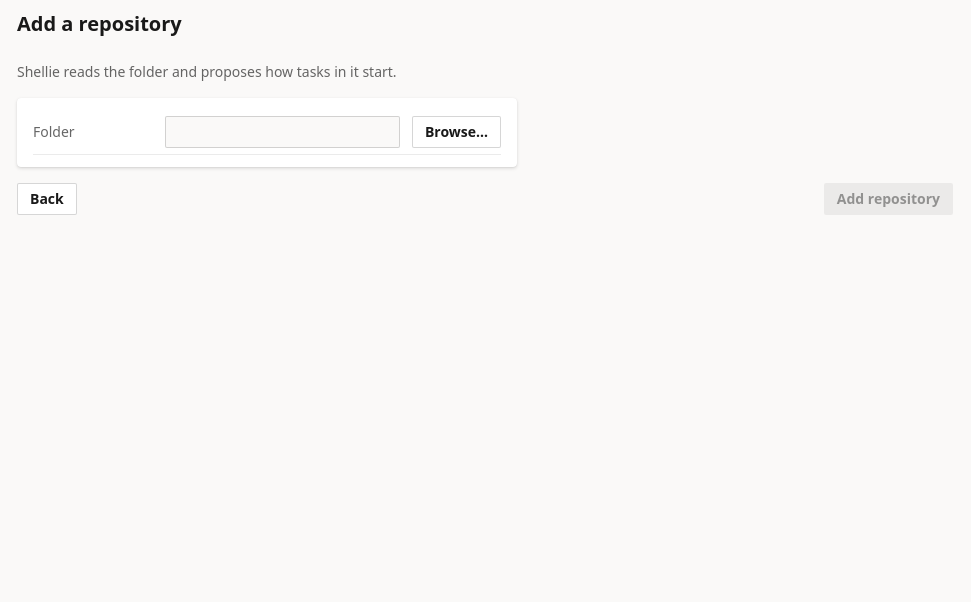
Test: AddRepoScreen › browses for a folder and inspects it
What coordinates should you click on to do the following:
click the button "Browse…"
I would click on:
 (456, 132)
Its box is top-left (412, 116), bottom-right (501, 148).
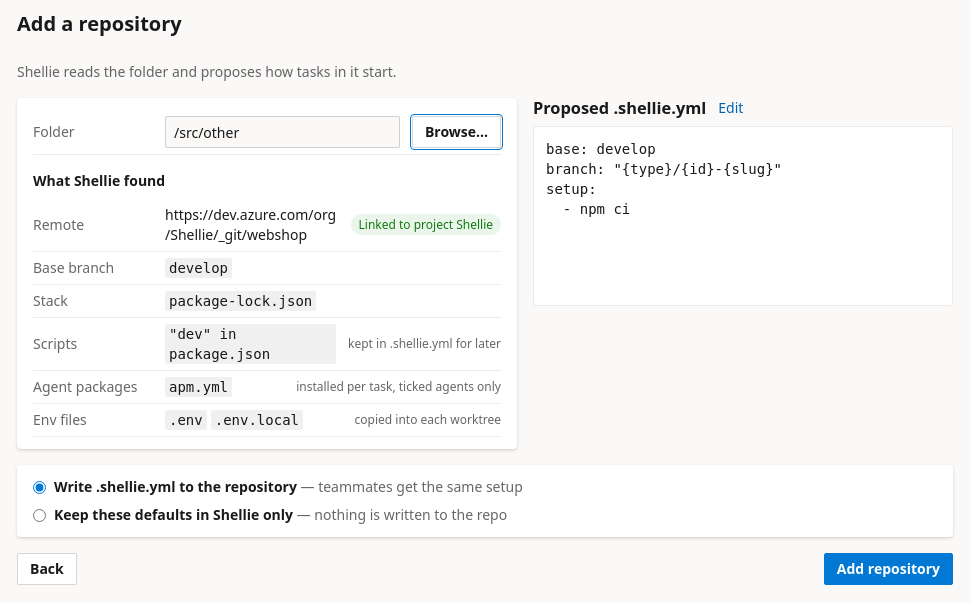
Expected: the text "Linked to project Shellie" is shown, top-left (350, 214), bottom-right (501, 235)
